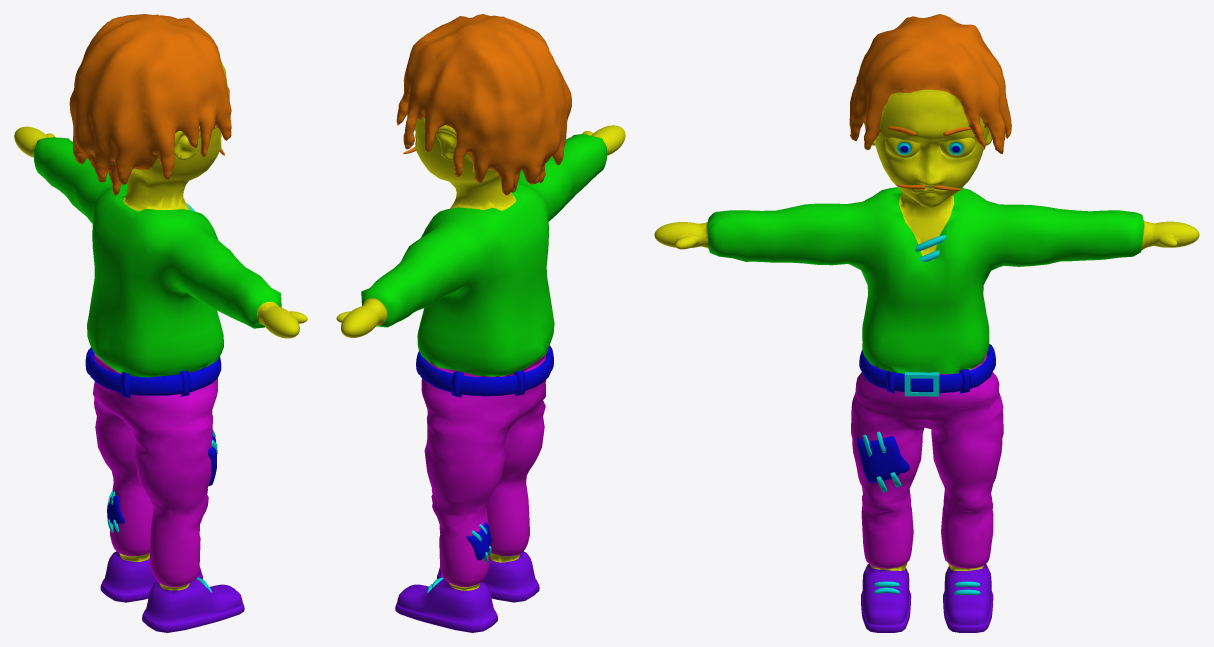
The model's file is pers_tpose.fbx.
3 renders of one model, left to right at view 1: azimuth 30°, elevation 25°; view 2: azimuth 150°, elevation 25°; view 3: azimuth 270°, elevation 25°, orthographic.
Visible parts, largest first — view 1: head; view 2: head; view 3: head, eyes.
Part boxes in pixels (left/top/right/bottom): head: left=14, top=14, right=307, bottom=632; head: left=336, top=14, right=625, bottom=632; head: left=654, top=14, right=1199, bottom=632; eyes: left=885, top=137, right=975, bottom=158.
Size of the model in its own units: 147 by 573 by 490.
